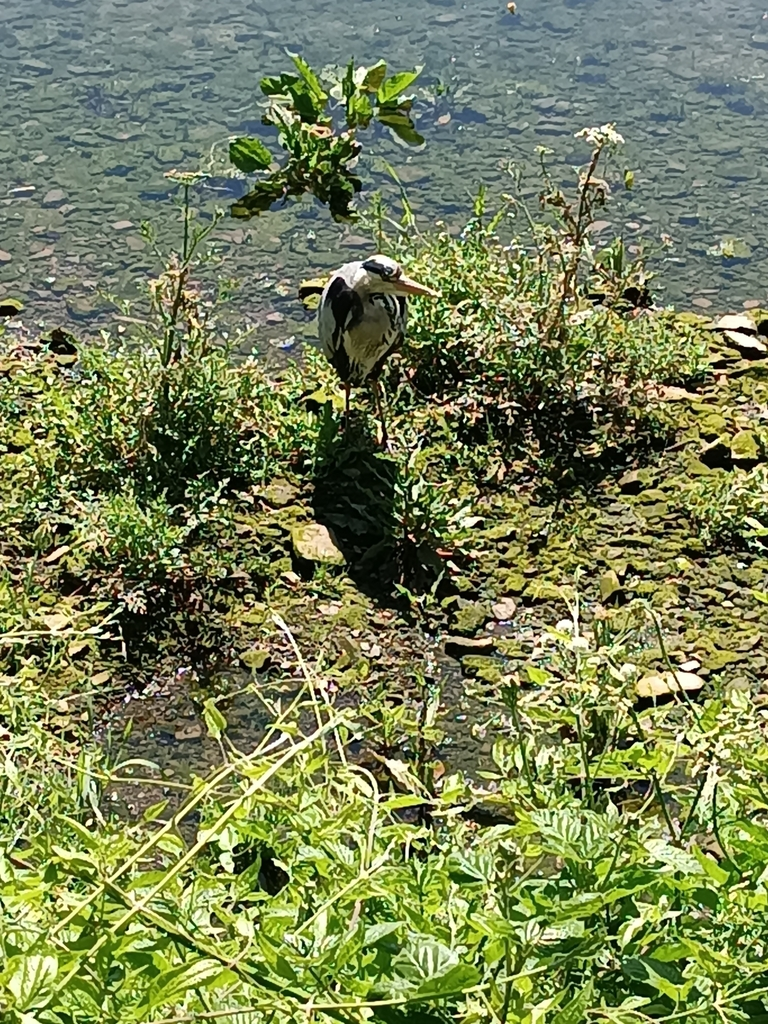heron: (315, 254, 442, 446)
